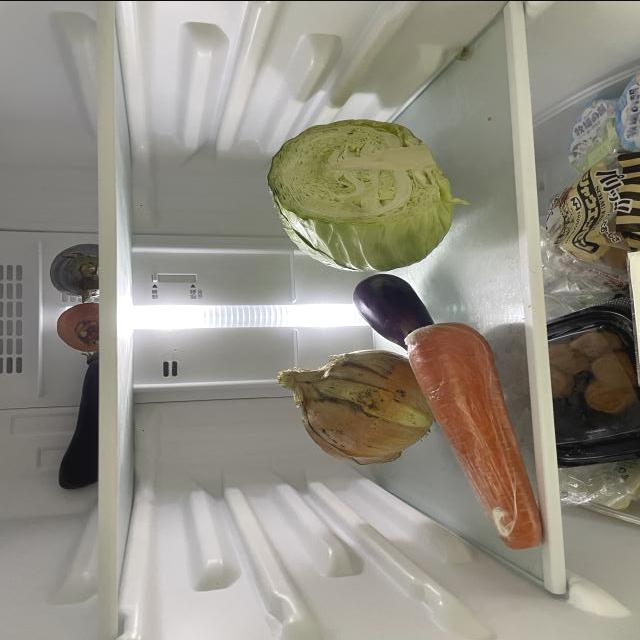cabbage: (266, 119, 460, 273)
carrot: (404, 324, 544, 546), (57, 302, 103, 350)
eggplant: (351, 273, 444, 349), (57, 353, 101, 491)
onion: (277, 348, 435, 462)
